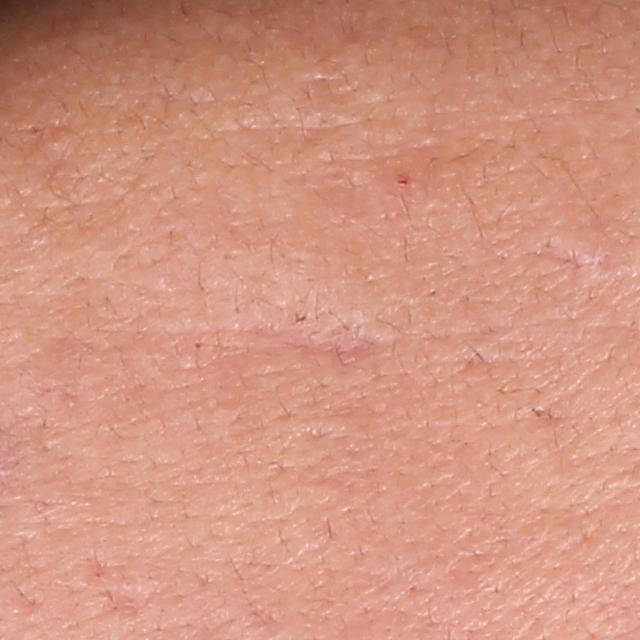atrophic_scar: (233, 300, 398, 365), (81, 556, 160, 623), (530, 236, 604, 288)
